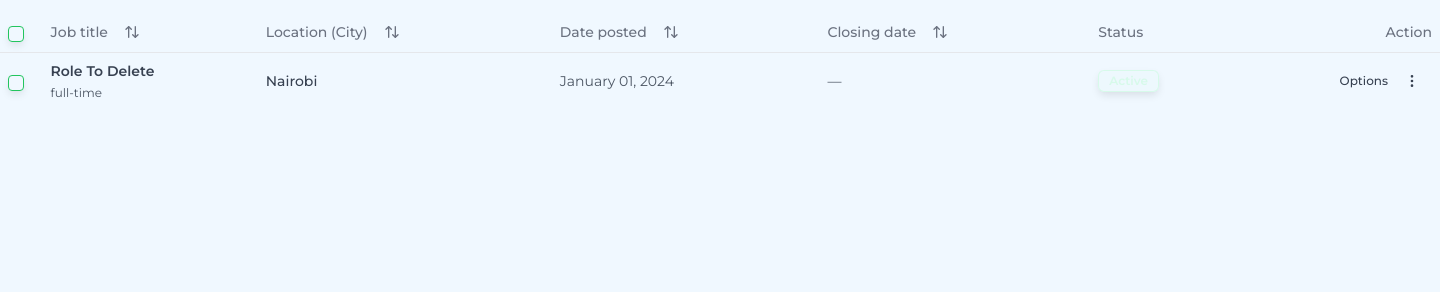
Test: JobListingTable delete action › offers Delete Job when the user can delete listings
The image size is (1440, 292).
Click the button "Options" at (1380, 80), box [1328, 64, 1432, 96]
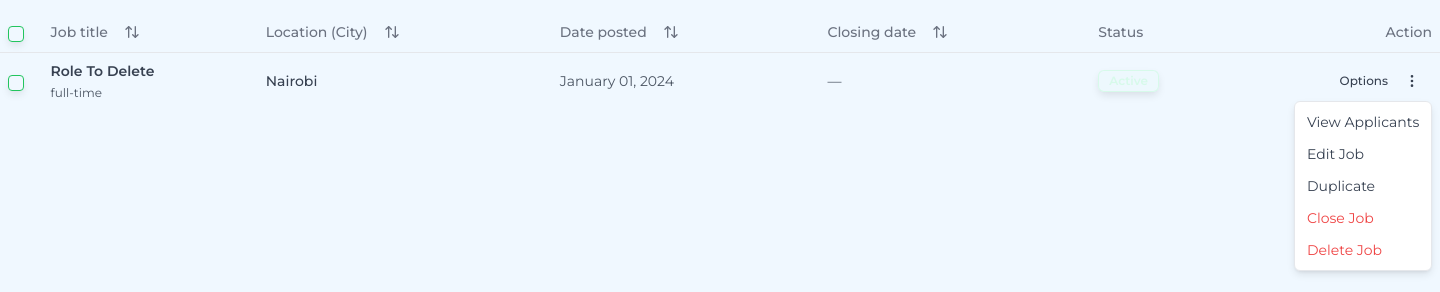
Expected: the menu item "Delete Job" is shown, [1307, 241, 1382, 259]
